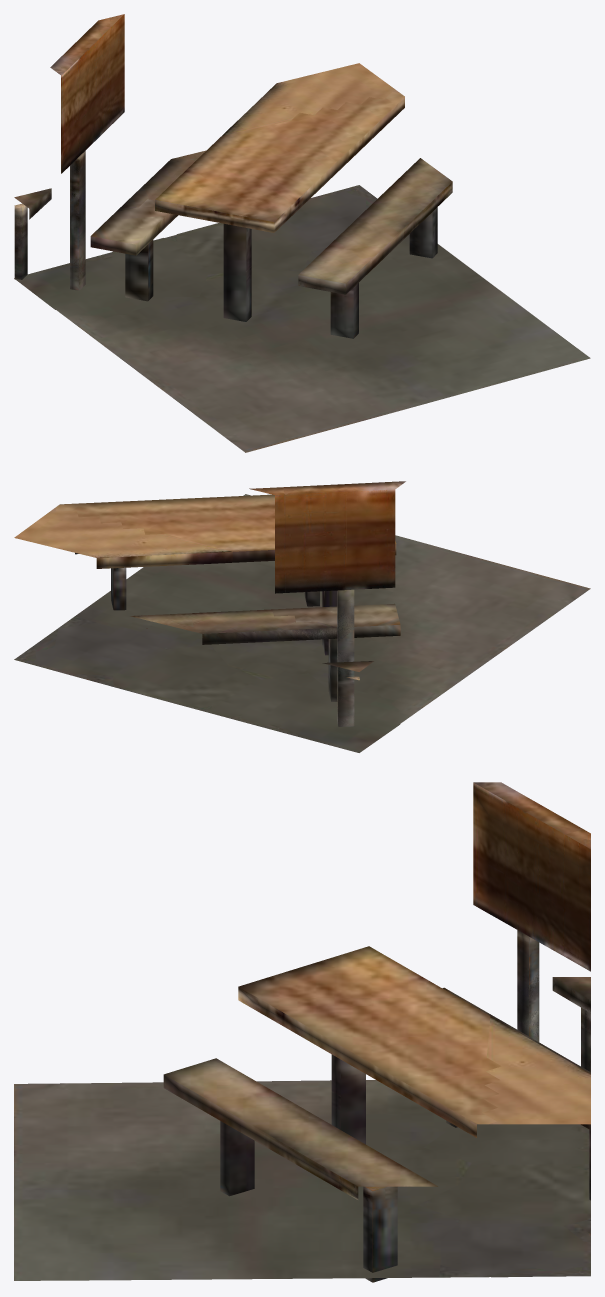
3 views of the same model, one above another, from view 1: azimuth 30°, elevation 25°; view 2: azimuth 150°, elevation 25°; view 3: azimuth 270°, elevation 25° (orthographic). The views are drawn at different scales.
Size of the model in its own units: 2.36 by 1.61 by 2.74.
1 material, 1 textured.
